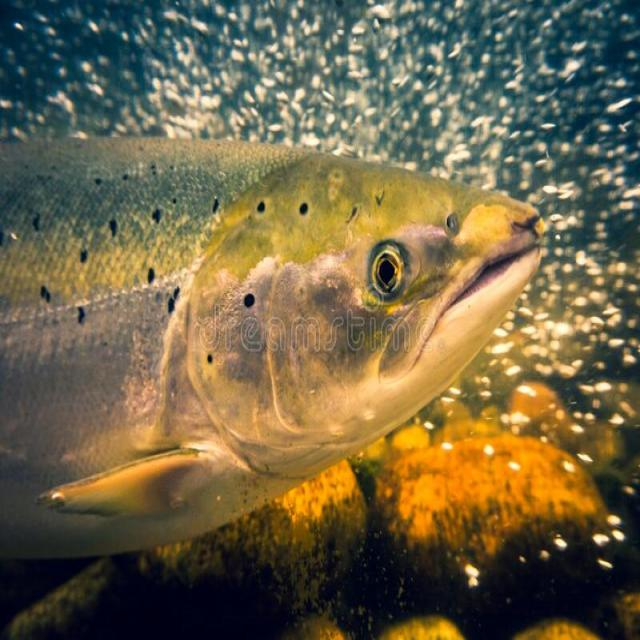salmon: (0, 52, 556, 539)
